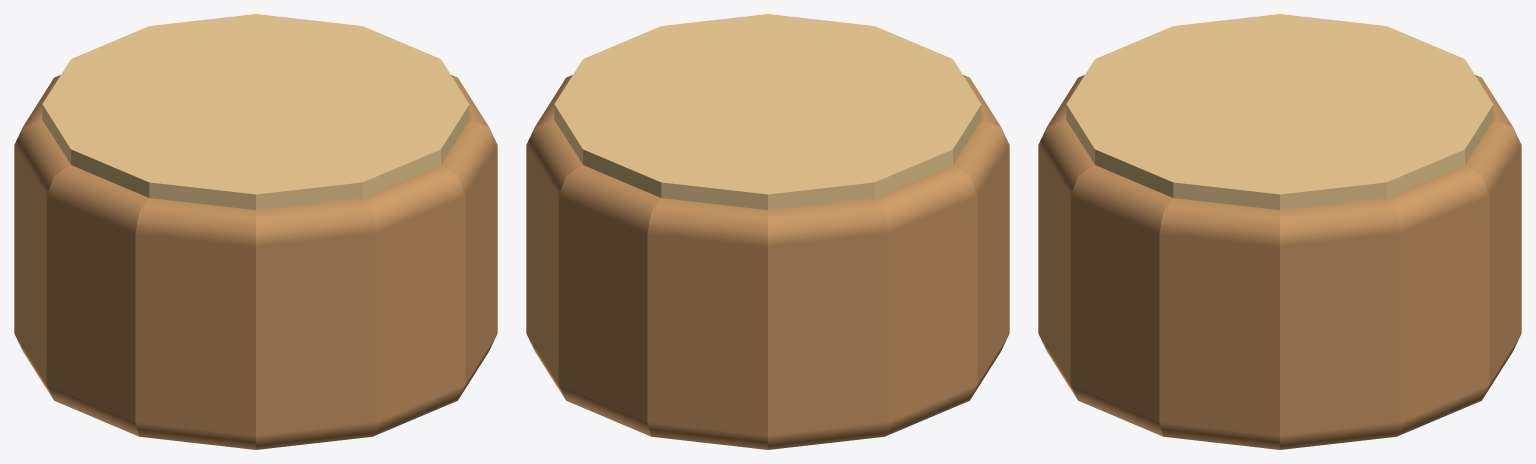
The model's file is Tree_Stump_Small.fbx.
3 renders of one model, left to right at view 1: azimuth 30°, elevation 25°; view 2: azimuth 150°, elevation 25°; view 3: azimuth 270°, elevation 25°, orthographic.
Visible parts, largest first — view 1: Tiny final stump, Pale cut face; view 2: Tiny final stump, Pale cut face; view 3: Tiny final stump, Pale cut face.
Part boxes in pixels (box(x1,y1,x2,y2)): Tiny final stump: box(14, 75, 497, 449); Pale cut face: box(42, 14, 469, 209); Tiny final stump: box(526, 75, 1009, 449); Pale cut face: box(554, 14, 981, 209); Tiny final stump: box(1038, 75, 1521, 449); Pale cut face: box(1066, 14, 1493, 209).
Bounding box in the file's own units: 172 × 100 × 172.
